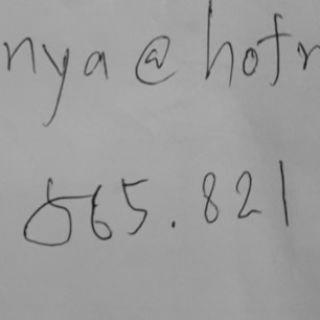.: (170, 215, 178, 229)
1: (277, 154, 293, 229)
2: (234, 167, 266, 219)
5: (119, 170, 154, 239)
6: (86, 184, 115, 244)
8: (196, 166, 223, 227)
